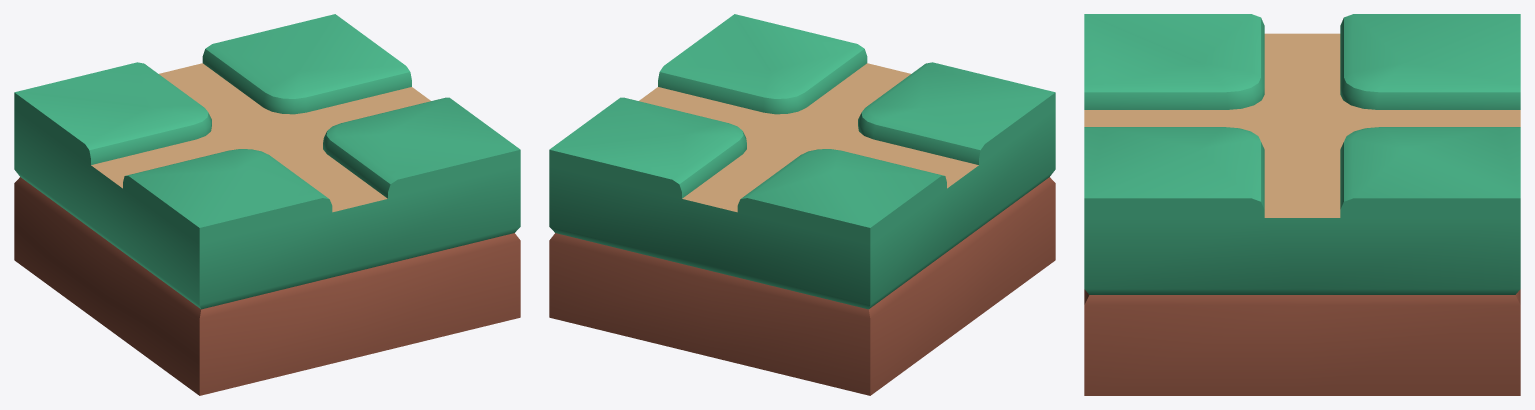
The model's file is square_forest_roadE_detail.glb.
3 views of the same model, side by side, from view 1: azimuth 30°, elevation 25°; view 2: azimuth 150°, elevation 25°; view 3: azimuth 270°, elevation 25° (orthographic). The views are drawn at different scales.
Visible parts, largest first — view 1: square_forest_roadE_detail; view 2: square_forest_roadE_detail; view 3: square_forest_roadE_detail.
Part boxes in pixels (x1,y1,x2,y2): square_forest_roadE_detail: (14,14,520,395); square_forest_roadE_detail: (549,14,1055,395); square_forest_roadE_detail: (1084,14,1520,395).
Bounding box in the file's own units: 2 × 1 × 2.
